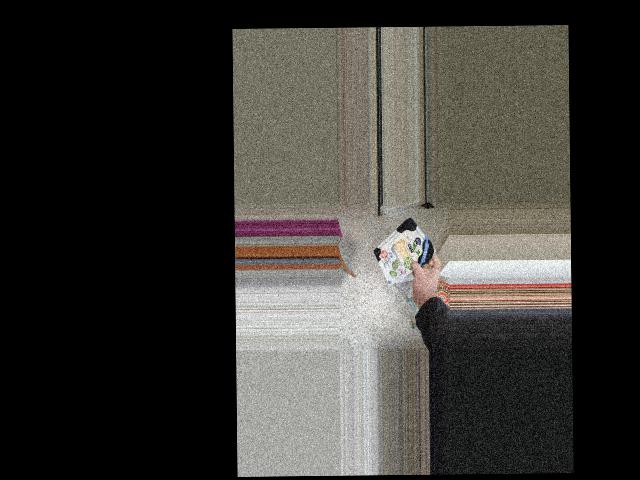cheese: (367, 219, 437, 280)
